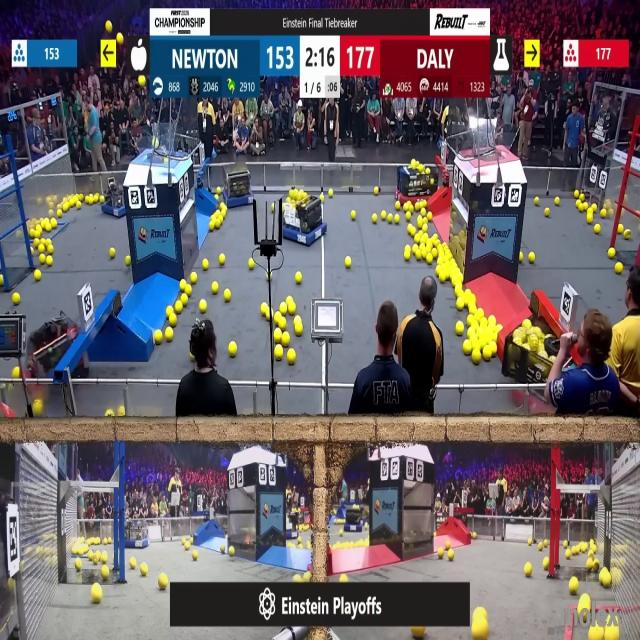ball_airborne: (150, 137, 160, 155), (118, 30, 125, 42), (139, 75, 146, 86), (106, 22, 112, 33)
ball_ground: (471, 611, 487, 640), (92, 586, 102, 604), (413, 625, 425, 640), (600, 570, 610, 586), (33, 402, 43, 418), (569, 580, 578, 596), (582, 594, 591, 610), (160, 573, 169, 588), (286, 350, 295, 364), (471, 350, 480, 364), (462, 341, 470, 355), (230, 343, 238, 357), (294, 320, 302, 334), (166, 328, 174, 342), (590, 628, 600, 639), (154, 332, 162, 345), (282, 334, 290, 347), (275, 346, 283, 359), (274, 328, 282, 341), (524, 563, 532, 576), (484, 347, 492, 360), (200, 301, 208, 313), (616, 264, 624, 276), (456, 322, 464, 334), (287, 304, 295, 316), (102, 566, 109, 579), (274, 312, 282, 323), (212, 282, 219, 294), (223, 289, 230, 301), (12, 292, 19, 304), (170, 314, 177, 326), (280, 304, 287, 316), (262, 301, 268, 315), (440, 272, 447, 284), (304, 571, 312, 581), (454, 286, 462, 296), (180, 294, 188, 304), (467, 304, 475, 314), (345, 256, 352, 267), (189, 273, 196, 284), (75, 559, 82, 570), (12, 366, 19, 377), (457, 300, 464, 311), (294, 273, 300, 285), (542, 558, 548, 570), (280, 317, 286, 329), (588, 212, 594, 224), (491, 345, 497, 357), (175, 304, 182, 314), (203, 261, 210, 271), (45, 256, 52, 266), (426, 254, 433, 264), (141, 564, 148, 574), (117, 408, 124, 418), (219, 253, 225, 264), (608, 248, 614, 259), (180, 280, 186, 291), (248, 260, 254, 271), (409, 223, 415, 234), (102, 553, 108, 564), (292, 574, 300, 582), (412, 245, 420, 253), (416, 203, 424, 211), (341, 573, 348, 582), (564, 551, 571, 560), (38, 245, 45, 254), (35, 271, 41, 281), (595, 223, 601, 233), (529, 252, 535, 262), (403, 250, 409, 260), (131, 558, 137, 568), (185, 284, 191, 294), (110, 248, 116, 258), (588, 559, 594, 569), (427, 211, 433, 221), (575, 201, 581, 211), (50, 218, 56, 228), (466, 327, 472, 337), (89, 552, 95, 562), (469, 294, 475, 304), (478, 309, 485, 317), (489, 316, 496, 324), (524, 320, 531, 328), (555, 198, 561, 207), (46, 246, 52, 255), (625, 231, 631, 240), (40, 254, 46, 263), (123, 255, 129, 264), (407, 212, 413, 221), (422, 223, 428, 232), (374, 186, 380, 195), (415, 234, 421, 243), (431, 248, 437, 257), (381, 211, 387, 220), (417, 217, 423, 226), (63, 204, 69, 213), (0, 275, 4, 288), (449, 551, 454, 561), (228, 548, 233, 558), (351, 210, 356, 220), (437, 549, 442, 559), (420, 209, 427, 216), (394, 215, 400, 223), (619, 224, 625, 232), (416, 252, 422, 260), (600, 210, 606, 218), (578, 192, 584, 200), (286, 295, 292, 303), (572, 190, 578, 198), (216, 209, 222, 217), (583, 204, 589, 212), (537, 198, 542, 207), (267, 312, 272, 321), (168, 306, 173, 315), (467, 315, 472, 324), (105, 412, 112, 418), (271, 205, 277, 212), (395, 202, 400, 210), (371, 214, 376, 222), (388, 214, 393, 222), (76, 202, 81, 210), (520, 252, 524, 262), (403, 204, 408, 212), (220, 543, 225, 551), (58, 210, 63, 218), (435, 268, 440, 276), (34, 240, 39, 248), (447, 540, 452, 548), (215, 220, 220, 228), (420, 244, 425, 252), (465, 288, 470, 296), (192, 552, 196, 561), (544, 208, 548, 217), (210, 221, 214, 230), (184, 542, 189, 549), (216, 186, 221, 193), (296, 536, 301, 543), (328, 189, 332, 197), (538, 542, 542, 550), (220, 204, 224, 212), (48, 210, 52, 218), (297, 542, 302, 548), (341, 529, 345, 536), (528, 538, 532, 545), (472, 532, 476, 539), (564, 540, 568, 547), (320, 193, 324, 200), (288, 541, 292, 548), (543, 540, 547, 546), (216, 196, 220, 202)
goal: (465, 122, 521, 159), (130, 129, 188, 161)
robot_blue: (282, 188, 326, 246), (225, 164, 255, 206), (99, 180, 126, 217), (126, 520, 151, 548), (284, 510, 304, 540), (346, 507, 368, 532)
robot_red: (18, 313, 80, 409), (501, 320, 557, 405), (396, 159, 438, 204)
